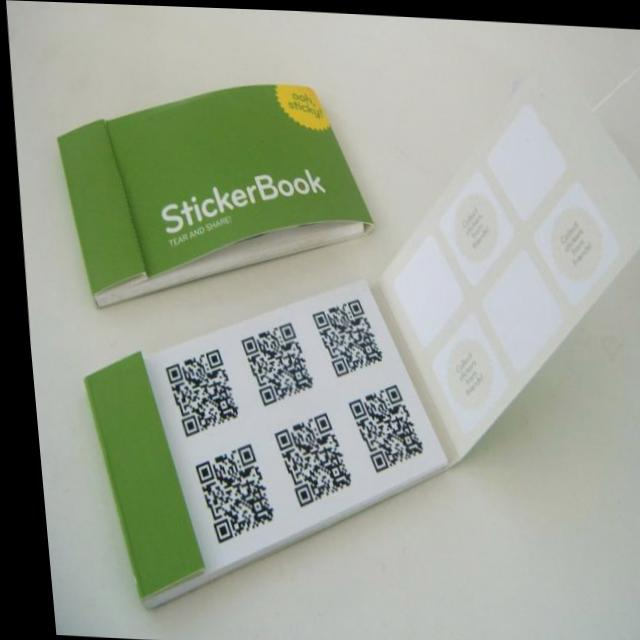qrcode: (184, 441, 268, 545), (264, 408, 346, 508), (157, 345, 235, 439), (340, 382, 419, 473), (234, 318, 309, 407), (306, 296, 379, 377)
